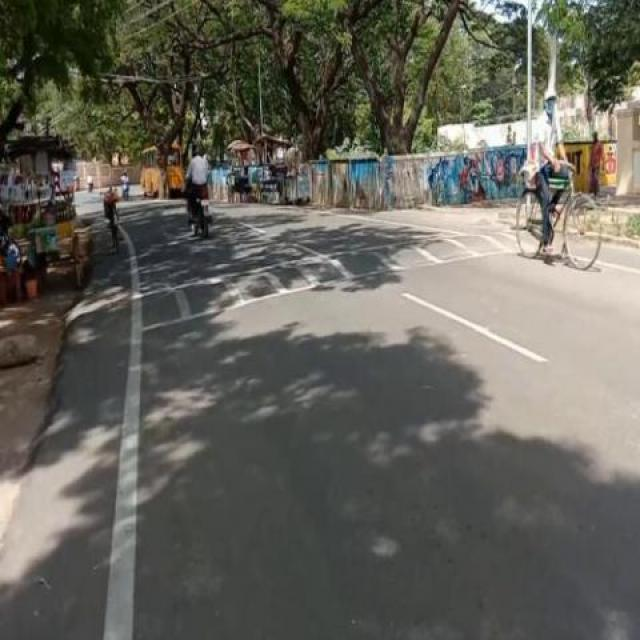Speed Bump: (140, 224, 507, 334)
